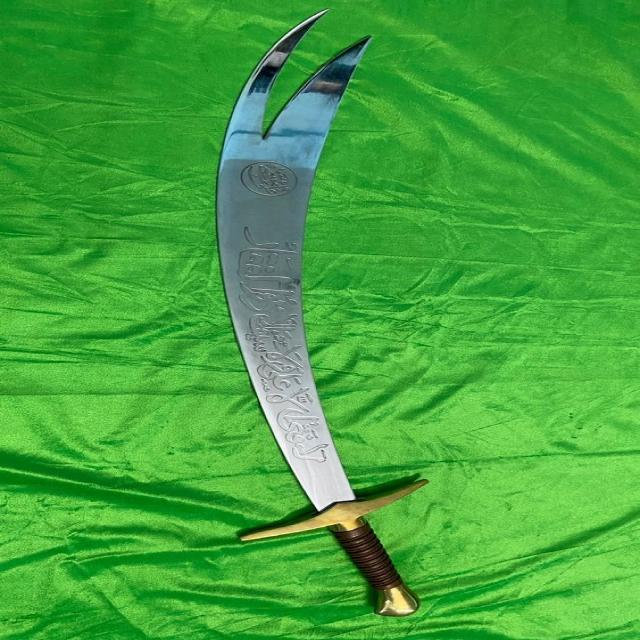sword: (194, 18, 456, 621)
